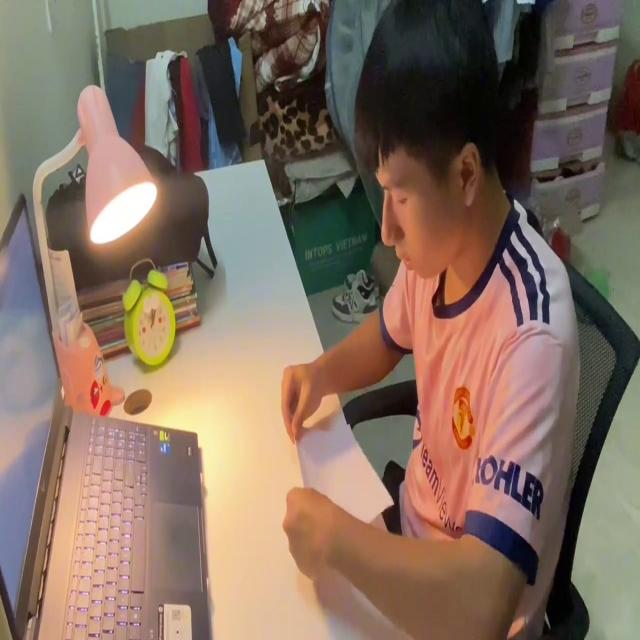book: (289, 386, 396, 532)
laptop: (0, 186, 214, 640)
student: (278, 0, 579, 640)
